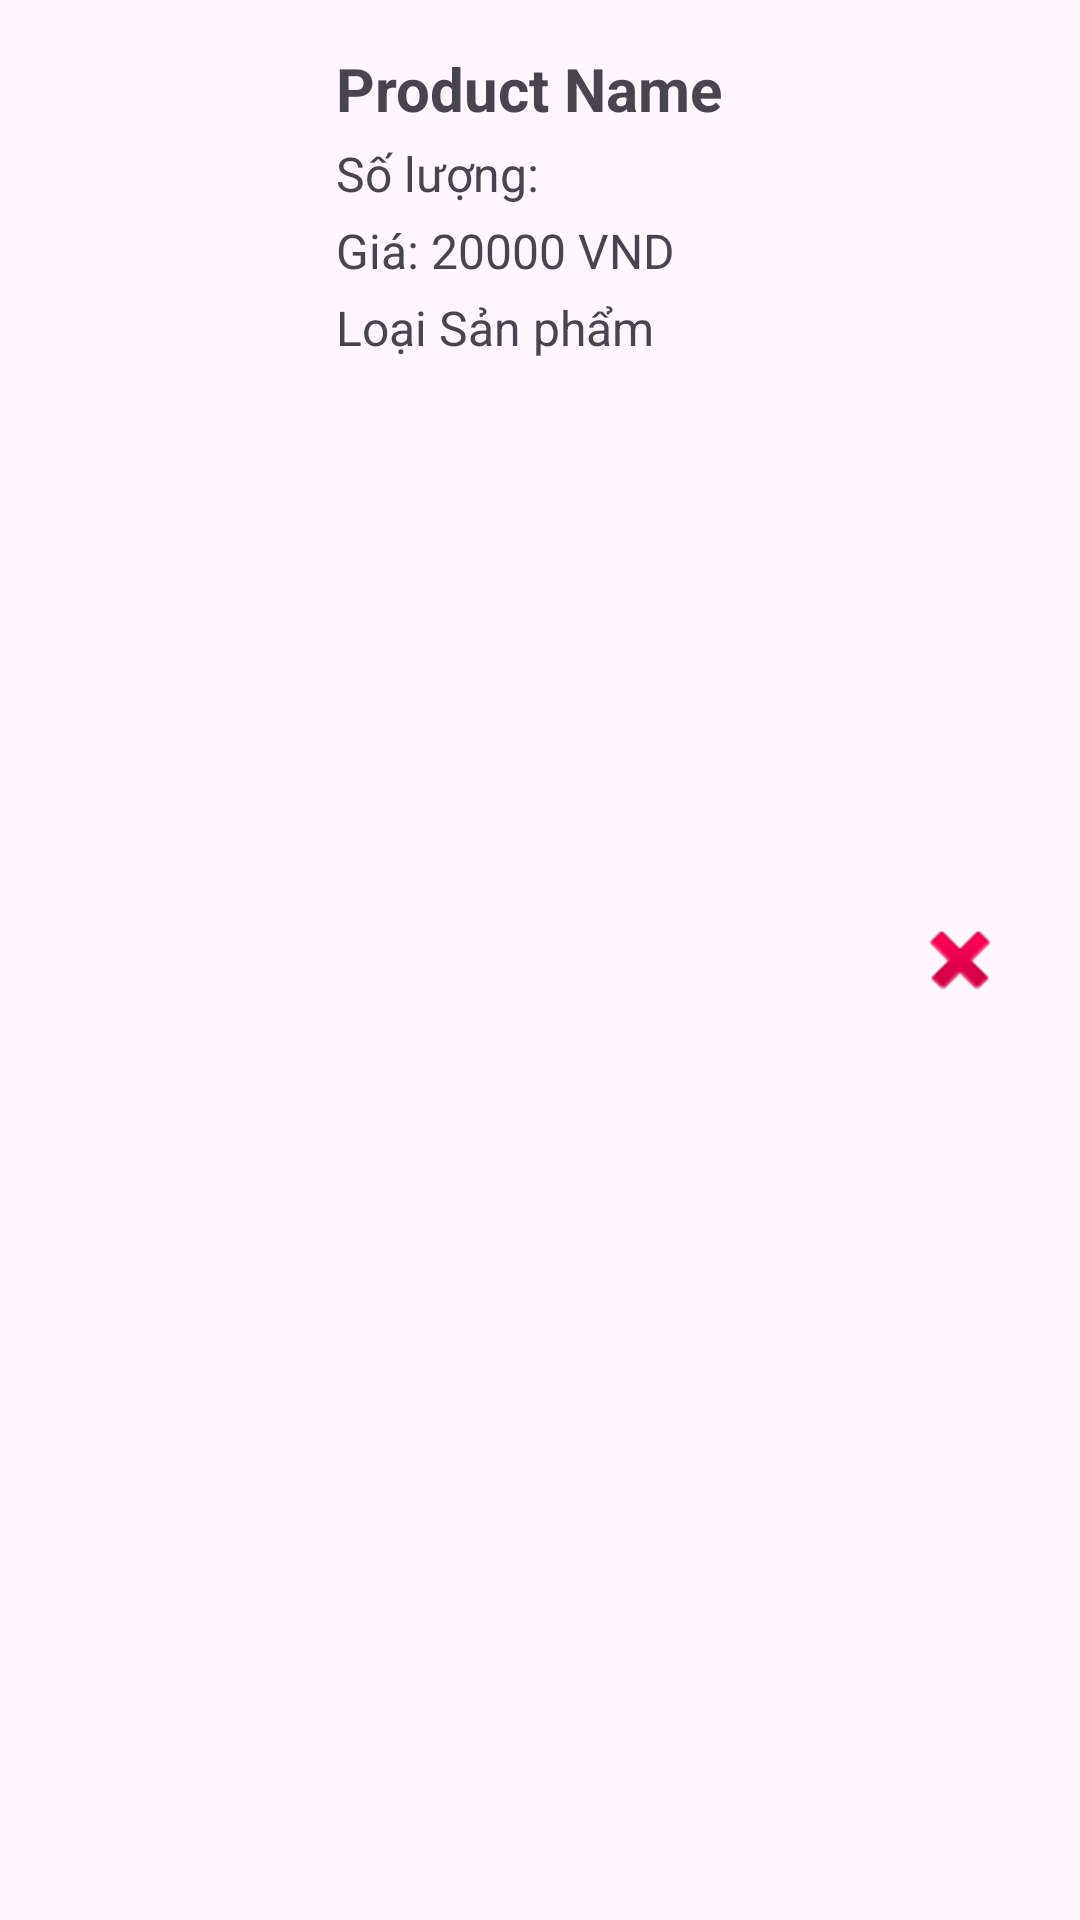

Screen size 1080x1920. Icon name, then its center in pixels as point (x, y):
Delete Product: point (960, 960)
